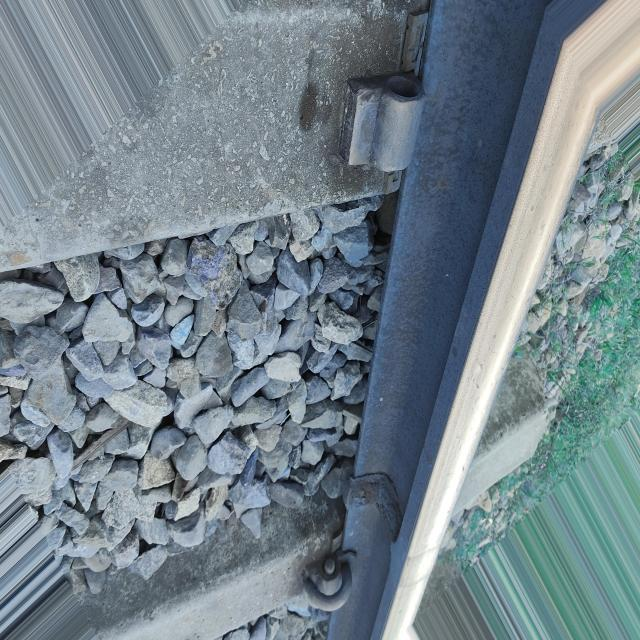Good Fasteners: (303, 558, 351, 612)
Missing Fastener: (338, 60, 428, 193)
